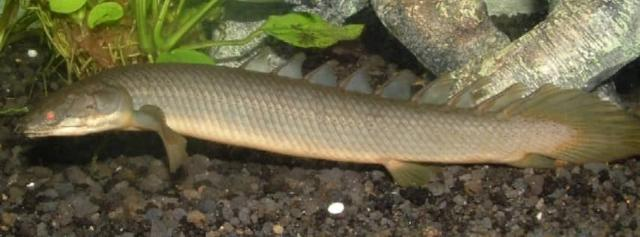Mulut: (8, 110, 60, 152)
Sirip Anal: (502, 146, 560, 164)
Sirip Dada: (121, 100, 206, 180)
Sirip Ekor: (522, 74, 640, 176)
Sirip Perut: (379, 153, 448, 197)
Sirip Punggung: (230, 38, 532, 115)
